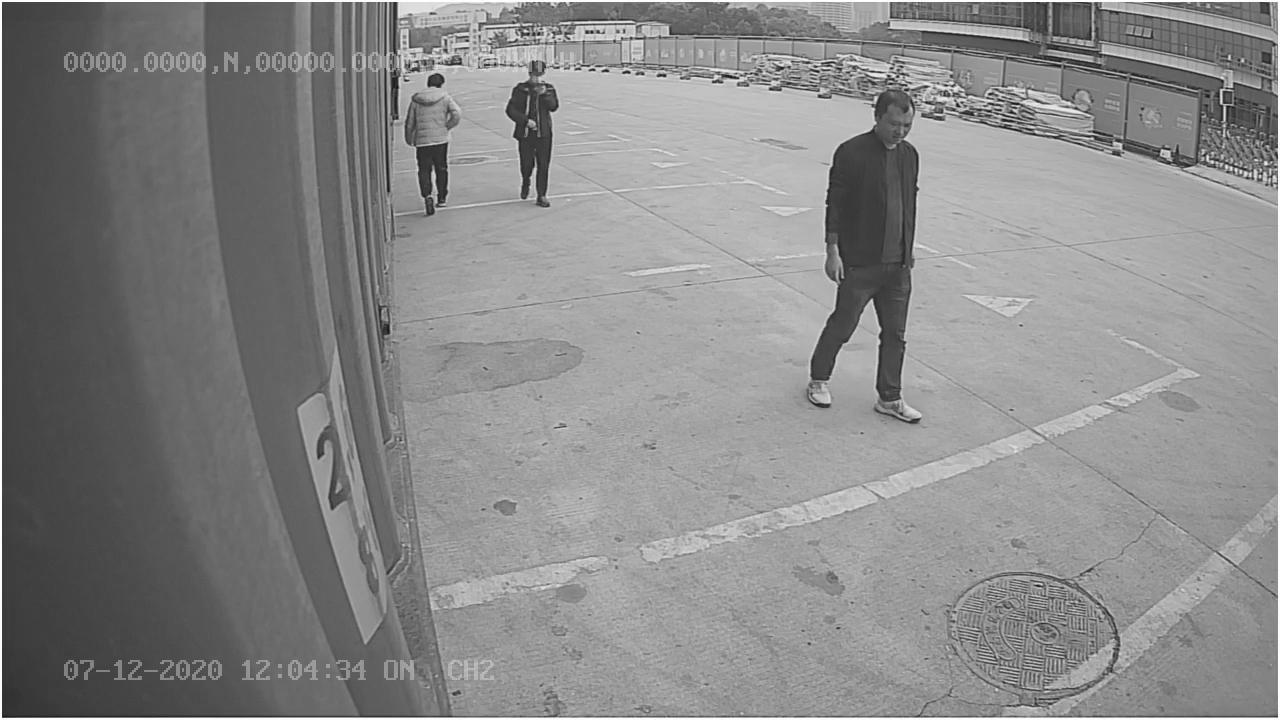person: (804, 78, 932, 421)
